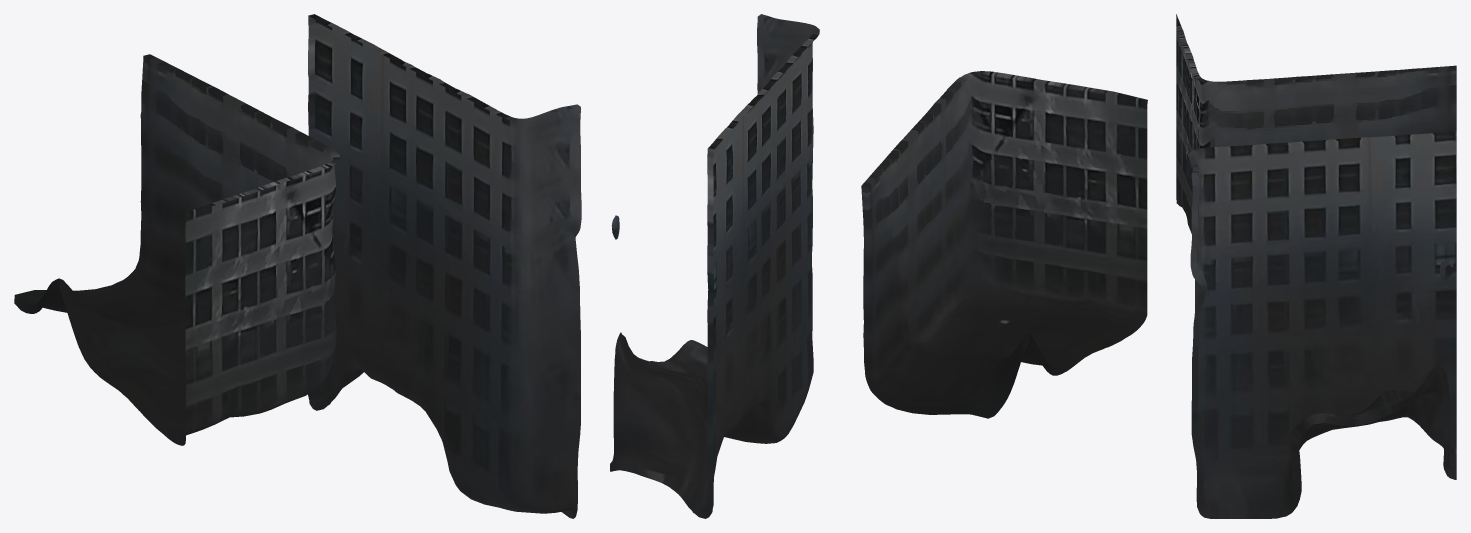
File: z20-167767-405235-h0-yup-uvflip-v3-world.glb
3 views of the same model, side by side, from view 1: azimuth 30°, elevation 25°; view 2: azimuth 150°, elevation 25°; view 3: azimuth 270°, elevation 25° (orthographic). The views are drawn at different scales.
Size of the model in its own units: 30.2 by 29.88 by 22.12.
Materials: 1 (1 with a texture image).
